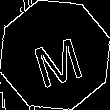M_N: (26, 24, 84, 86)
